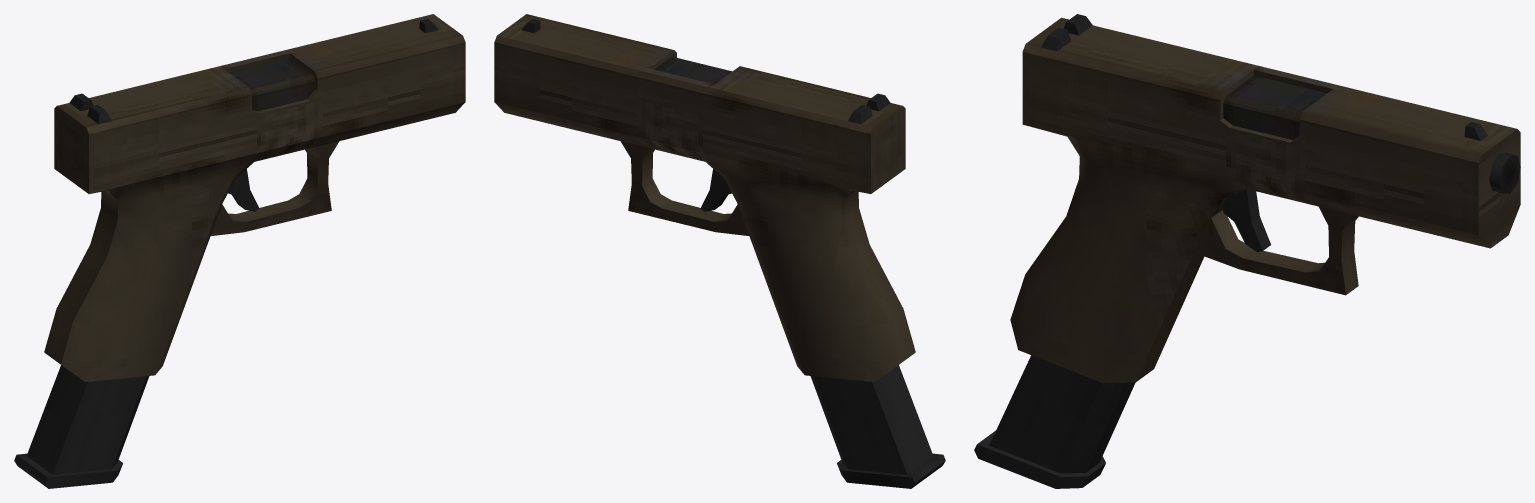
Rendered from shop-item-1057.glb.
3 renders of one model, left to right at view 1: azimuth 30°, elevation 25°; view 2: azimuth 150°, elevation 25°; view 3: azimuth 330°, elevation 25°, orthographic. The views are drawn at different scales.
Parts seen in each view (by area): view 1: pistol_mp_1_1, pistol_mp_1_1_slide, pistol_mp_1_1_mag_initial, pistol_mp_1_1_trigger; view 2: pistol_mp_1_1, pistol_mp_1_1_slide, pistol_mp_1_1_mag_initial, pistol_mp_1_1_trigger; view 3: pistol_mp_1_1, pistol_mp_1_1_slide, pistol_mp_1_1_mag_initial, pistol_mp_1_1_trigger.
Boxes of the visible parts, left/top/right/bottom form: pistol_mp_1_1: left=44, top=58, right=465, bottom=382; pistol_mp_1_1_slide: left=54, top=14, right=465, bottom=174; pistol_mp_1_1_mag_initial: left=14, top=365, right=149, bottom=488; pistol_mp_1_1_trigger: left=228, top=169, right=259, bottom=211; pistol_mp_1_1: left=494, top=56, right=915, bottom=382; pistol_mp_1_1_slide: left=494, top=14, right=905, bottom=174; pistol_mp_1_1_mag_initial: left=810, top=365, right=945, bottom=488; pistol_mp_1_1_trigger: left=700, top=169, right=731, bottom=211; pistol_mp_1_1: left=1010, top=75, right=1520, bottom=382; pistol_mp_1_1_slide: left=1022, top=14, right=1520, bottom=211; pistol_mp_1_1_mag_initial: left=974, top=355, right=1135, bottom=488; pistol_mp_1_1_trigger: left=1222, top=189, right=1270, bottom=252.
Bounding box in the file's own units: 0.2842 × 0.2359 × 0.04.
2 materials, 2 textured.
